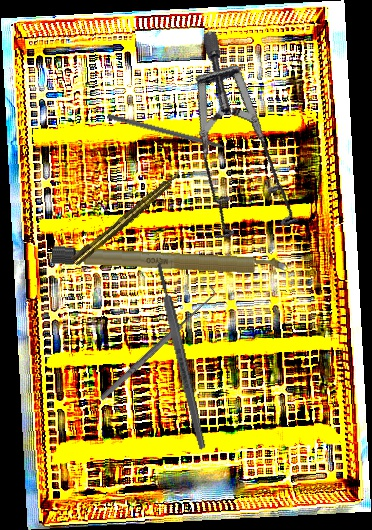Handpiece: (70, 167, 185, 268)
Hook Surgical: (94, 283, 221, 404), (106, 112, 245, 157)
Scalpel Handle: (153, 260, 208, 452), (51, 245, 289, 278)
Speculum: (140, 27, 351, 263)
